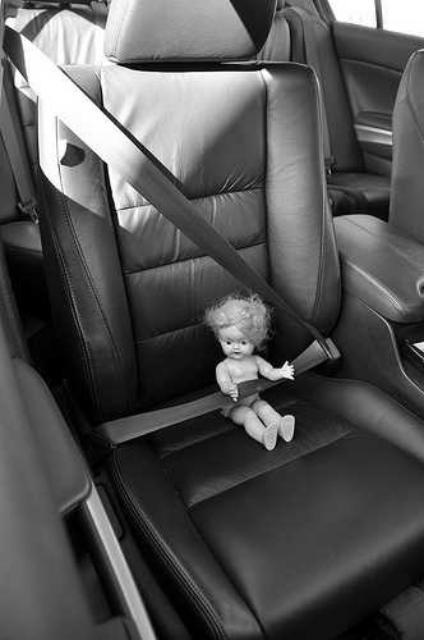Seatbelt: (1, 16, 345, 452)
